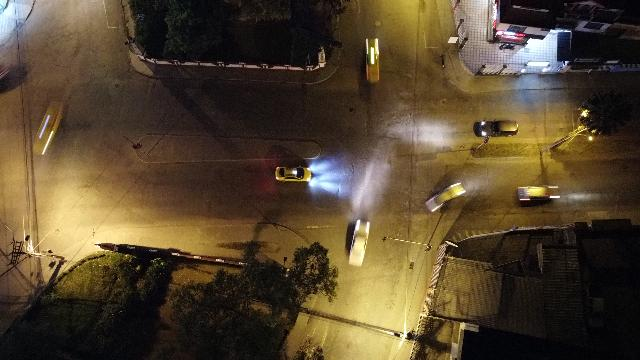Vehiculo: (472, 120, 519, 141), (518, 185, 560, 201), (275, 166, 311, 182)
